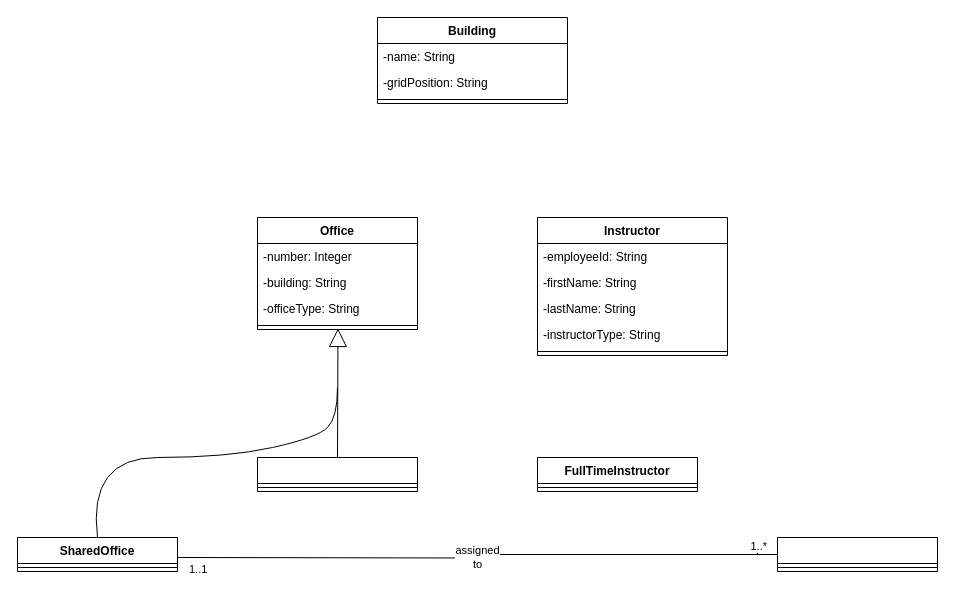
The diagram is 955 pixels wide and 595 high, and some of its shapes have lost their labels. The centre of each missing label's shape, as x and y in pixels:
"PartTimeInstructor" belongs at point 857,554.
"SingleOffice" belongs at point 337,474.
